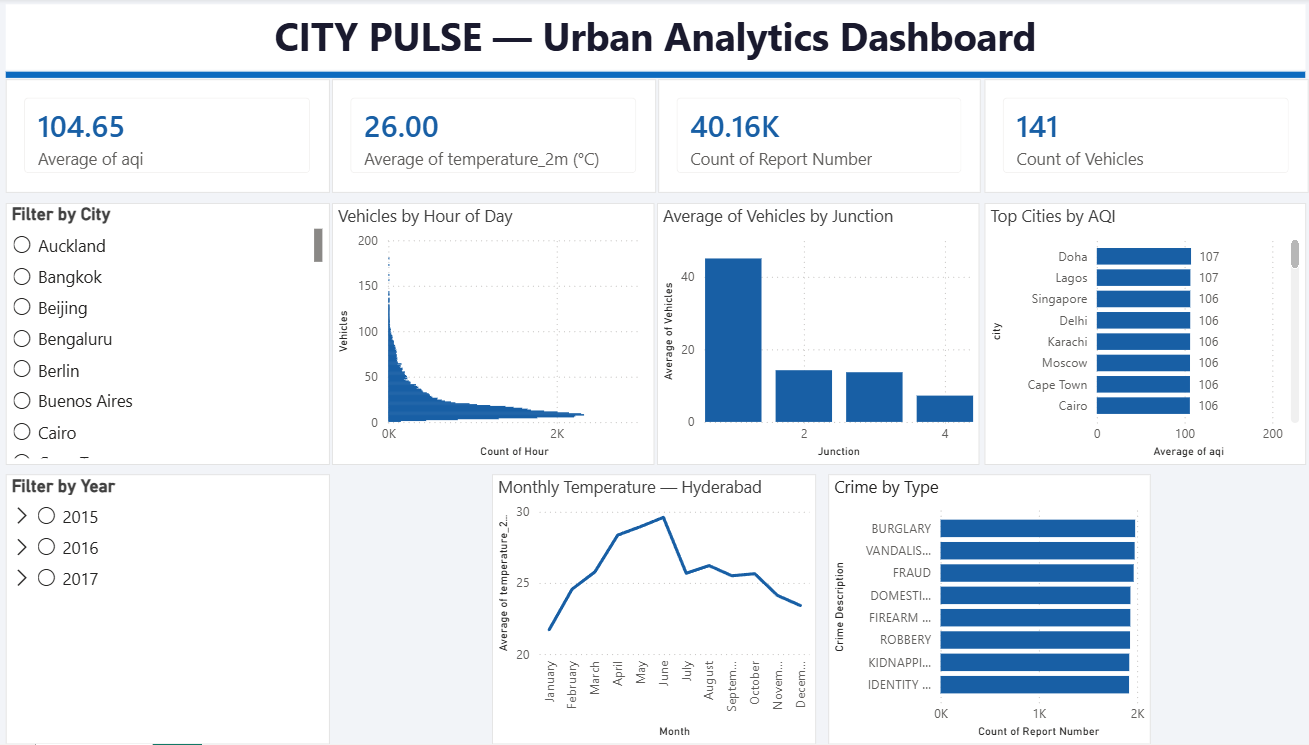

The dashboard page shown, as its layout file describes it:
{"tool":"powerbi","page":{"name":"city_pulse","canvas":[1280,720],"ordinal":0},"visuals":[{"type":"clusteredBarChart","title":"Vehicles by Hour of Day","fields":{"Category":["public traffic.Vehicles"],"Y":["CountNonNull(public traffic.Hour)"]},"box":[328,197.6,311.5,252.5],"z":0},{"type":"clusteredColumnChart","fields":{"Category":["public traffic.Junction"],"Y":["Avg(public traffic.Vehicles)"]},"box":[642.2,197.6,311.5,252.5],"z":1},{"type":"clusteredBarChart","title":"Top Cities by AQI","fields":{"Category":["public air_quality.city"],"Y":["Avg(public air_quality.aqi)"]},"box":[957.8,197.6,310.1,252.5],"z":2},{"type":"lineChart","title":"Monthly Temperature — Hyderabad","fields":{"Category":["public weather.time.Variation.Date Hierarchy.Month"],"Y":["Avg(public weather.temperature_2m (°C))"]},"box":[483,459.7,312.9,260.7],"z":3},{"type":"clusteredBarChart","title":"Crime by Type","fields":{"Category":["public crime.Crime Description"],"Y":["CountNonNull(public crime.Report Number)"]},"box":[806.9,459.7,311.5,260.7],"z":4},{"type":"textbox","box":[13.7,5.5,1254.2,63.1],"z":5},{"type":"cardVisual","fields":{"Data":["Count(public traffic.Vehicles)"]},"box":[957.8,78.2,312.9,109.8],"z":6},{"type":"cardVisual","fields":{"Data":["Count(public crime.Report Number)"]},"box":[643.6,78.2,311.5,109.8],"z":7},{"type":"cardVisual","fields":{"Data":["Avg(public air_quality.aqi)"]},"box":[13.7,78.2,312.9,109.8],"z":8},{"type":"cardVisual","fields":{"Data":["Avg(public weather.temperature_2m (°C))"]},"box":[328,78.2,312.9,109.8],"z":9},{"type":"listSlicer","title":"Filter by City","fields":{"Values":["public air_quality.city"]},"box":[13.7,197.6,312.9,252.5],"z":10},{"type":"listSlicer","title":"Filter by Year","fields":{"Values":["public traffic.DateTime.Variation.Date Hierarchy.Year","public traffic.DateTime.Variation.Date Hierarchy.Month","public traffic.DateTime.Variation.Date Hierarchy.Day"]},"box":[13.7,459.7,312.9,260.7],"z":11},{"type":"shape","box":[13.7,0,1254.2,148.2],"z":12}]}

Visuals, with their boxes in screenshot pixels (x1, y1, x2, y2), scaled from the page's 1280x720 canvas onto the 1309x745 screenshot:
"Vehicles by Hour of Day" clusteredBarChart: 335, 204, 654, 466
clusteredColumnChart - public traffic.Junction x Avg(public traffic.Vehicles): 657, 204, 975, 466
"Top Cities by AQI" clusteredBarChart: 980, 204, 1297, 466
"Monthly Temperature — Hyderabad" lineChart: 494, 476, 814, 744
"Crime by Type" clusteredBarChart: 825, 476, 1144, 744
textbox: 14, 6, 1297, 71
cardVisual - Count(public traffic.Vehicles): 980, 81, 1299, 195
cardVisual - Count(public crime.Report Number): 658, 81, 977, 195
cardVisual - Avg(public air_quality.aqi): 14, 81, 334, 195
cardVisual - Avg(public weather.temperature_2m (°C)): 335, 81, 655, 195
"Filter by City" listSlicer: 14, 204, 334, 466
"Filter by Year" listSlicer: 14, 476, 334, 744
shape: 14, 0, 1297, 153
